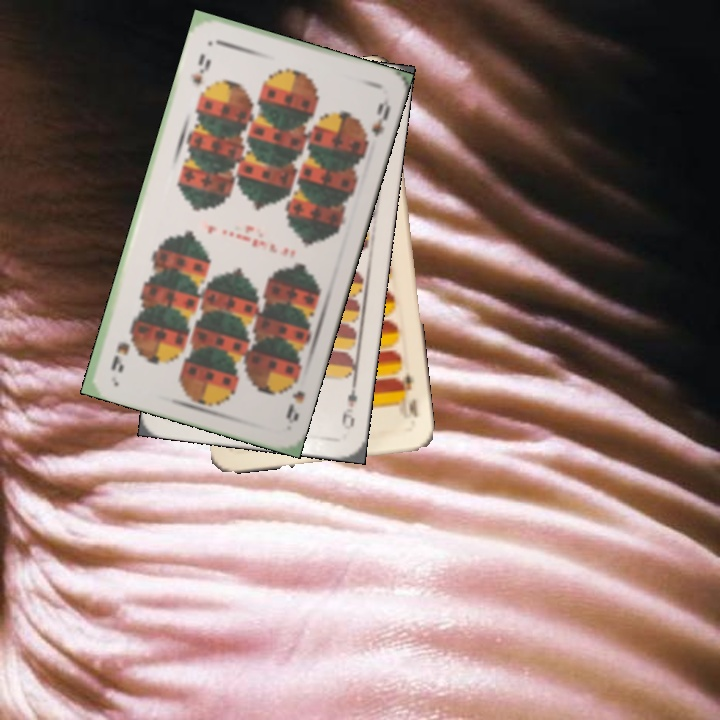E10: (394, 370, 421, 420)
E9: (337, 376, 360, 432)
S9: (282, 369, 307, 424), (188, 50, 214, 88)
